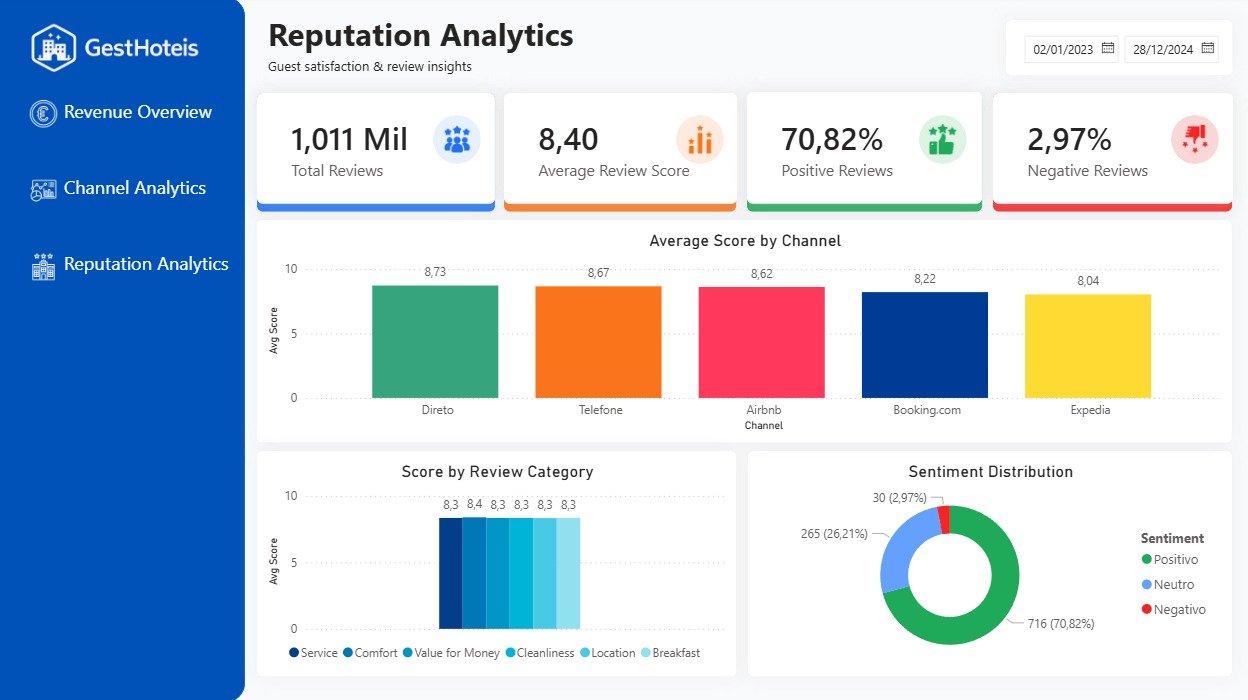

Layout of this report page (visuals, bound fields, positions):
{"tool":"powerbi","page":{"name":"Reputation Analytics","canvas":[1280,720],"ordinal":2},"visuals":[{"type":"donutChart","title":"Sentiment Distribution","fields":{"Category":["fact_reviews.sentimento"],"Y":["fact_reviews.Total Reviews"]},"box":[765.5,463,494.1,229.5],"z":0},{"type":"shape","box":[264.6,98.2,243.2,120.6],"z":2000},{"type":"shape","box":[516.7,98.9,236.7,120],"z":3000},{"type":"shape","box":[1015.4,98.2,244.1,120.6],"z":4000},{"type":"cardVisual","title":"Total Revenue","fields":{"Data":["fact_reviews.Total Reviews"]},"box":[264.6,98.2,243.2,112.8],"z":5000},{"type":"shape","box":[765,97.5,240,121.2],"z":6000},{"type":"cardVisual","fields":{"Data":["fact_reviews.% Reviews Negativos"]},"box":[1015.4,98.2,245.1,112.8],"z":7000},{"type":"cardVisual","fields":{"Data":["fact_reviews.Score Médio Geral"]},"box":[516.9,98.4,237.6,112.6],"z":8000},{"type":"shape","box":[0,0,252.2,720],"z":9000},{"type":"cardVisual","fields":{"Data":["fact_reviews.% Reviews Positivos"]},"box":[764.5,97,239.9,114.3],"z":10000},{"type":"shape","box":[0,0,139.5,719.8],"z":11000},{"type":"image","box":[11.6,23.3,216.7,56],"z":12000},{"type":"textbox","box":[270.4,9.7,337.5,61.3],"z":13000},{"type":"textbox","box":[270.4,56.4,278.2,29.2],"z":14000},{"type":"textbox","box":[62.2,98.9,165.6,41.1],"z":15000},{"type":"textbox","box":[62.2,176.7,165.6,41.1],"z":16000},{"type":"textbox","box":[62.2,254.4,190,41.1],"z":17000},{"type":"image","box":[22.2,105.6,47.8,27.8],"z":18000},{"type":"image","box":[22.2,183.3,47.8,27.8],"z":19000},{"type":"image","box":[22.2,261.1,47.8,27.8],"z":20000},{"type":"actionButton","box":[0,93.3,252.2,54.4],"z":21000},{"type":"actionButton","box":[1,170.2,250.9,54.5],"z":22000},{"type":"actionButton","box":[0,246.7,252.2,54.4],"z":23000},{"type":"slicer","fields":{"Values":["fact_reservas.checkin"]},"box":[1028.9,23.3,231.1,55.6],"z":24000},{"type":"shape","box":[444.4,120,48.9,50],"z":25000},{"type":"shape","box":[692.2,120,48.9,50],"z":26000},{"type":"shape","box":[940,120,48.9,50],"z":27000},{"type":"shape","box":[1197.8,120,48.9,50],"z":28000},{"type":"image","box":[452.2,130,33.3,31.1],"z":29000},{"type":"image","box":[700,130,33.3,31.1],"z":30000},{"type":"image","box":[947.4,129.4,34,31.1],"z":31000},{"type":"image","box":[1205.6,130,33.3,31.1],"z":32000},{"type":"columnChart","title":"Average Score by Channel","fields":{"Category":["analise_reviews.canal"],"Y":["Avg(analise_reviews.score_medio)"]},"box":[264.6,227.6,995,226.6],"z":33000},{"type":"clusteredColumnChart","title":"Score by Review Category","fields":{"Y":["fact_reviews.Score Atendimento","fact_reviews.Score Conforto","fact_reviews.Score Custo-benefício","fact_reviews.Score Limpeza","fact_reviews.Score Localização","fact_reviews.Score Pequeno-almoço"]},"box":[264.6,463,489.2,229.5],"z":34000}]}

Visuals, with their boxes on the page's 1280x720 design canvas (x1, y1, x2, y2). These are canvas units, not pixel positions in the 1248x700 screenshot, which may show the page scaled, cropped or inside an application window:
"Sentiment Distribution" donutChart: [766, 463, 1260, 692]
shape: [265, 98, 508, 219]
shape: [517, 99, 753, 219]
shape: [1015, 98, 1260, 219]
"Total Revenue" cardVisual: [265, 98, 508, 211]
shape: [765, 98, 1005, 219]
cardVisual - fact_reviews.% Reviews Negativos: [1015, 98, 1260, 211]
cardVisual - fact_reviews.Score Médio Geral: [517, 98, 754, 211]
shape: [0, 0, 252, 720]
cardVisual - fact_reviews.% Reviews Positivos: [764, 97, 1004, 211]
shape: [0, 0, 140, 720]
image: [12, 23, 228, 79]
textbox: [270, 10, 608, 71]
textbox: [270, 56, 549, 86]
textbox: [62, 99, 228, 140]
textbox: [62, 177, 228, 218]
textbox: [62, 254, 252, 296]
image: [22, 106, 70, 133]
image: [22, 183, 70, 211]
image: [22, 261, 70, 289]
actionButton: [0, 93, 252, 148]
actionButton: [1, 170, 252, 225]
actionButton: [0, 247, 252, 301]
slicer - fact_reservas.checkin: [1029, 23, 1260, 79]
shape: [444, 120, 493, 170]
shape: [692, 120, 741, 170]
shape: [940, 120, 989, 170]
shape: [1198, 120, 1247, 170]
image: [452, 130, 486, 161]
image: [700, 130, 733, 161]
image: [947, 129, 981, 160]
image: [1206, 130, 1239, 161]
"Average Score by Channel" columnChart: [265, 228, 1260, 454]
"Score by Review Category" clusteredColumnChart: [265, 463, 754, 692]
